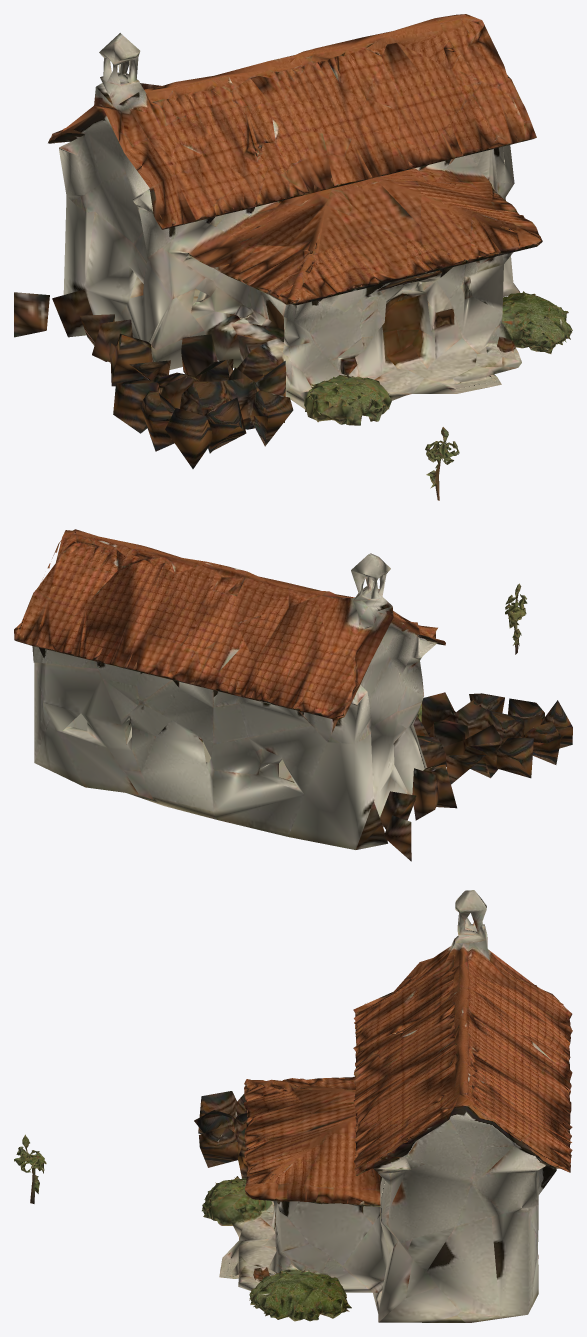
File: weingut.glb
The picture shows the model from 3 angles, top to bottom: view 1: azimuth 30°, elevation 25°; view 2: azimuth 150°, elevation 25°; view 3: azimuth 270°, elevation 25°; orthographic projection. The views are drawn at different scales.
Size of the model in its own units: 1.6 by 1.05 by 1.9.
Materials: 1 (1 with a texture image).
